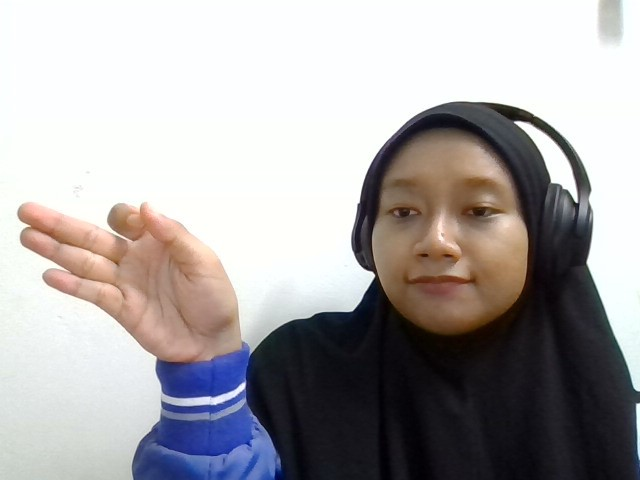Tudung: (18, 201, 244, 363)
